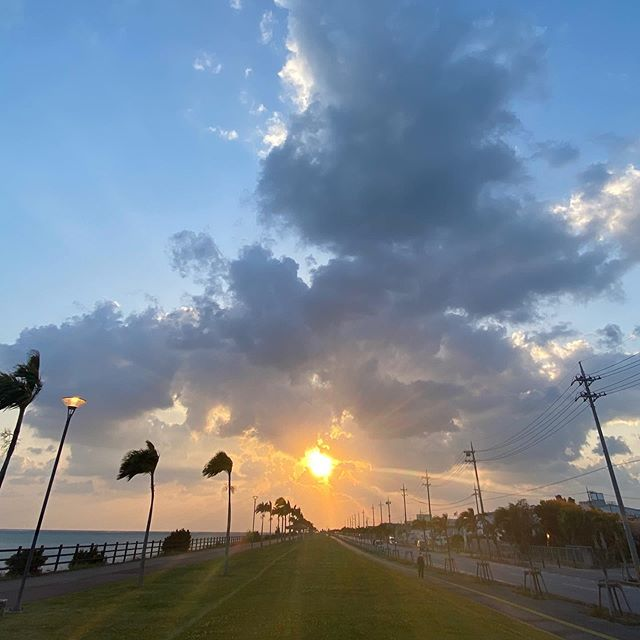grass: (14, 538, 489, 640)
sky: (24, 1, 640, 486)
sun: (296, 453, 341, 495)
